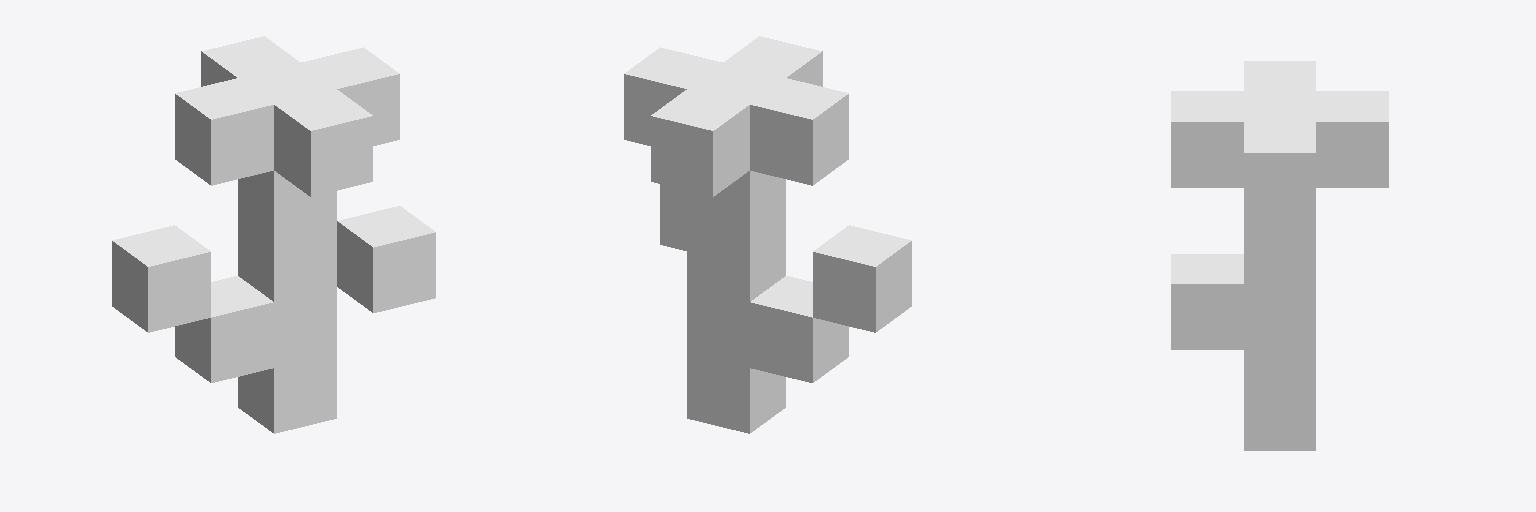
The model's file is fleur2.obj.
3 renders of one model, left to right at view 1: azimuth 30°, elevation 25°; view 2: azimuth 150°, elevation 25°; view 3: azimuth 270°, elevation 25°, orthographic.
Visible parts, largest first — view 1: fleur2; view 2: fleur2; view 3: fleur2.
Boxes of the visible parts, box(x1,y1,x2,y2) form: fleur2: box(112, 36, 435, 433); fleur2: box(624, 36, 911, 433); fleur2: box(1171, 61, 1388, 450).
Bounding box in the file's own units: 4 × 5 × 3.